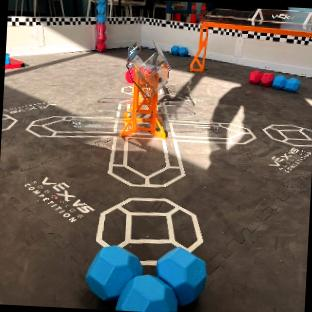V5_BLUE: (86, 245, 205, 309), (273, 75, 299, 91), (178, 46, 186, 54)
V5_RED: (249, 70, 273, 85), (125, 69, 132, 82)
